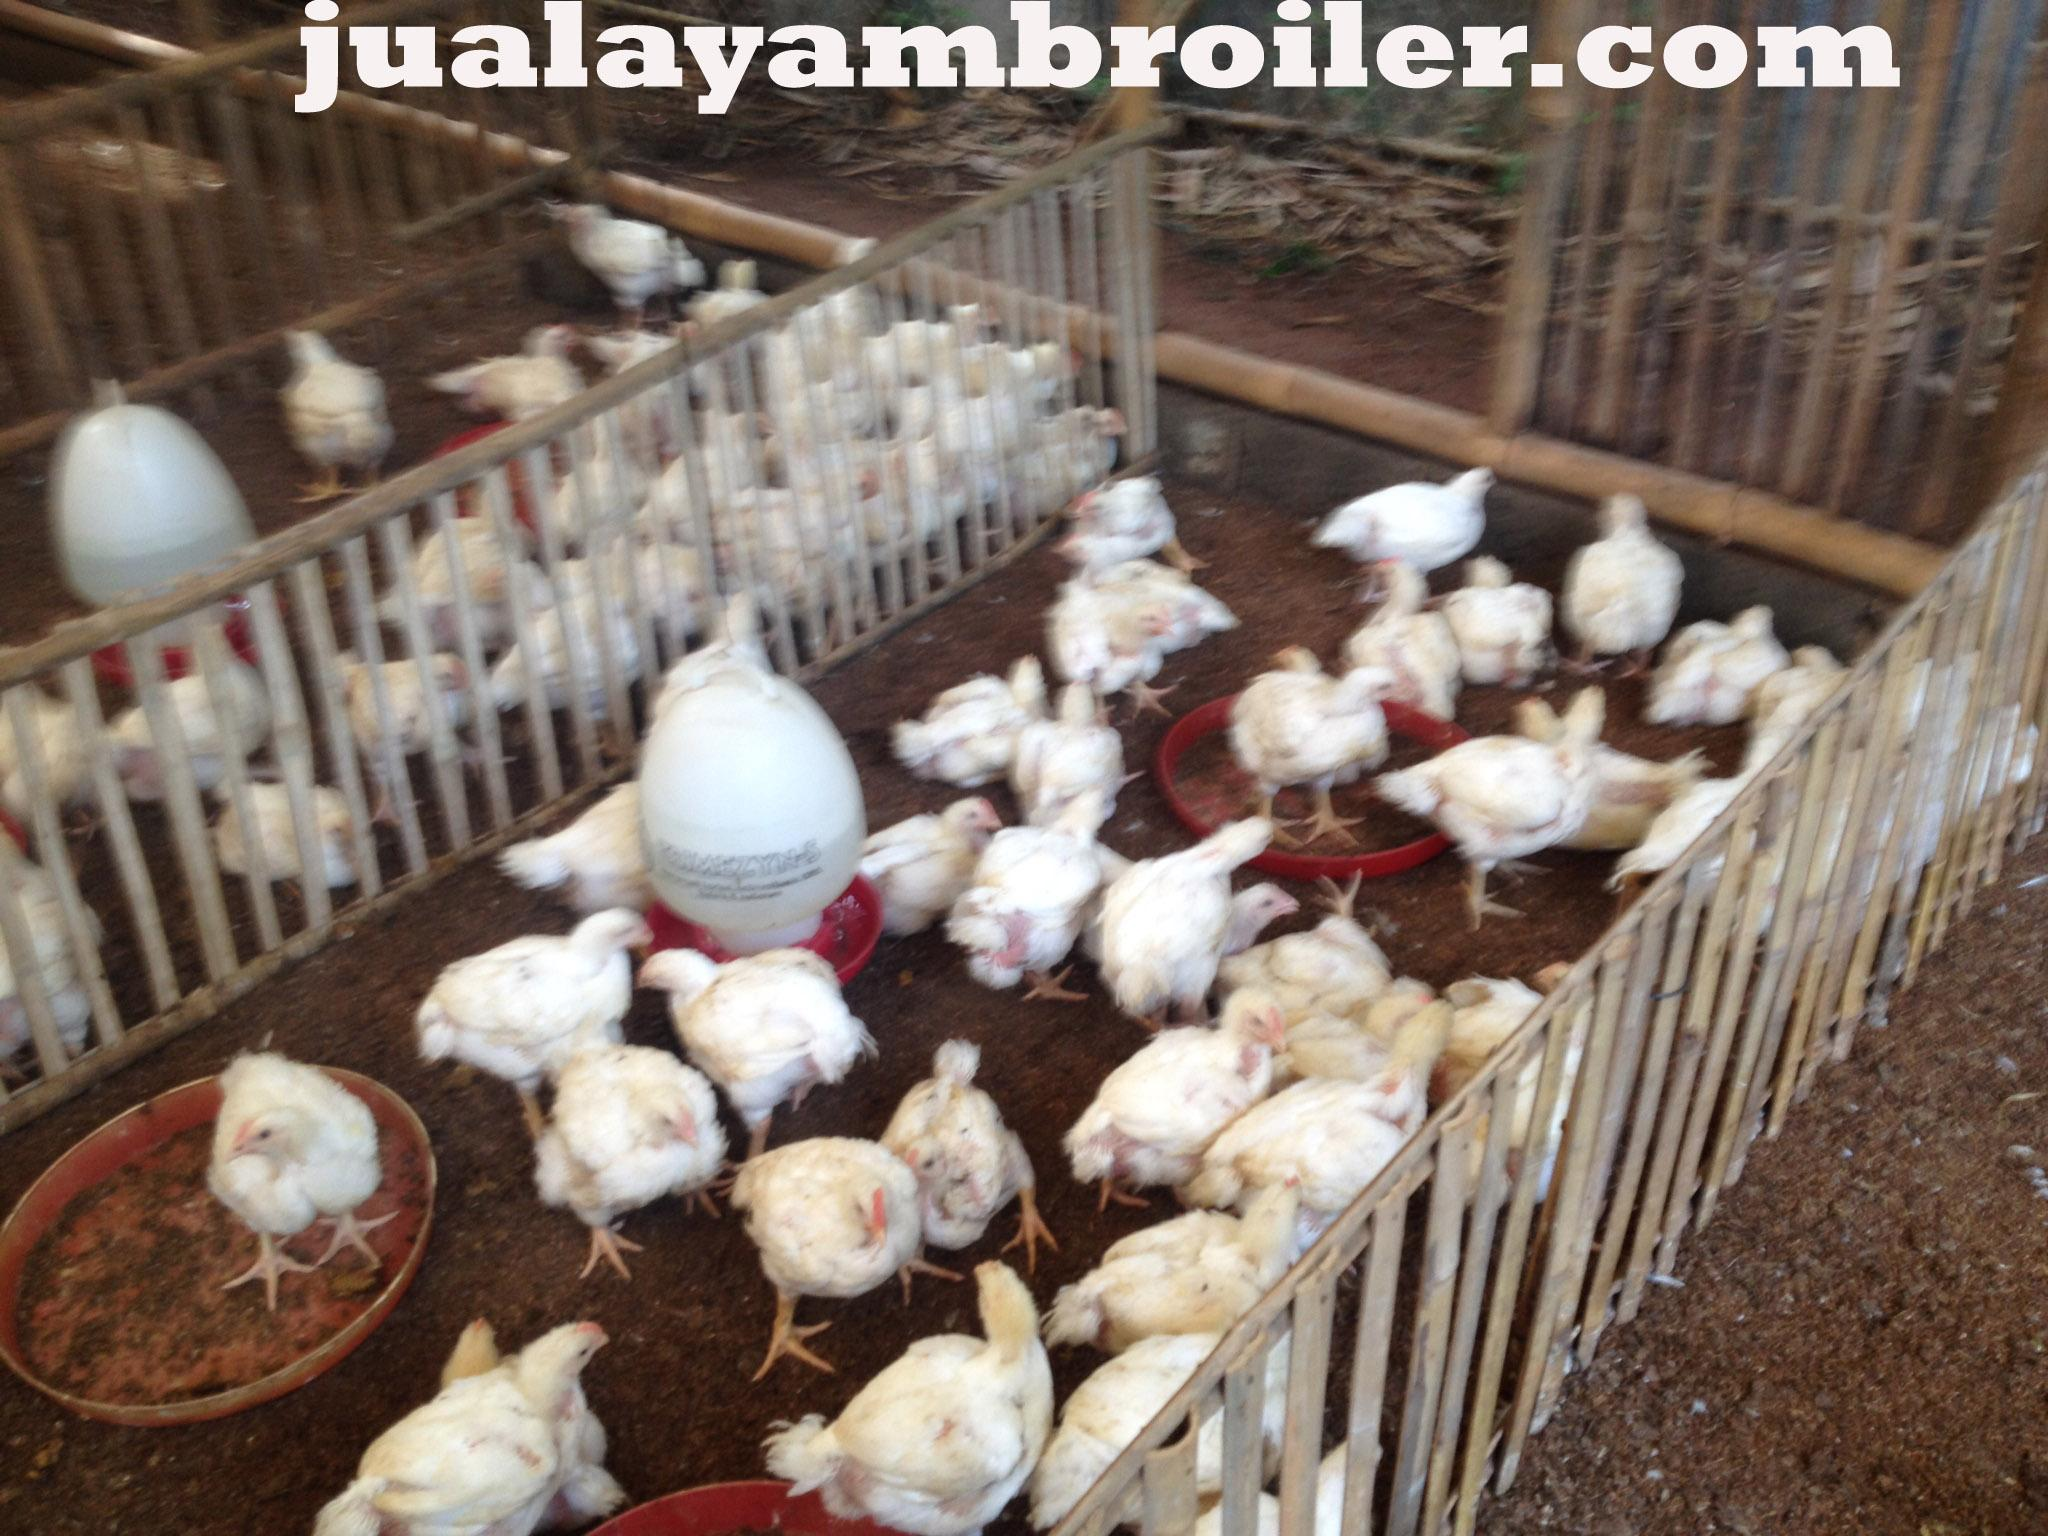chicken: (766, 1265, 1039, 1530), (327, 1317, 616, 1536), (1390, 684, 1606, 904), (727, 1139, 927, 1367), (216, 1054, 398, 1299), (424, 907, 653, 1099), (1066, 994, 1280, 1197), (643, 947, 855, 1150), (534, 1049, 731, 1260), (1053, 1183, 1295, 1350), (1101, 810, 1284, 1018), (959, 787, 1124, 1005), (893, 1041, 1035, 1276), (1243, 647, 1411, 823), (1203, 1063, 1409, 1202), (850, 791, 1003, 929), (1040, 560, 1221, 676), (897, 652, 1048, 789), (1326, 460, 1503, 570), (1567, 490, 1687, 649), (1642, 600, 1787, 724), (1022, 684, 1127, 831), (1356, 557, 1451, 713), (1453, 550, 1546, 694), (1074, 466, 1177, 555)
